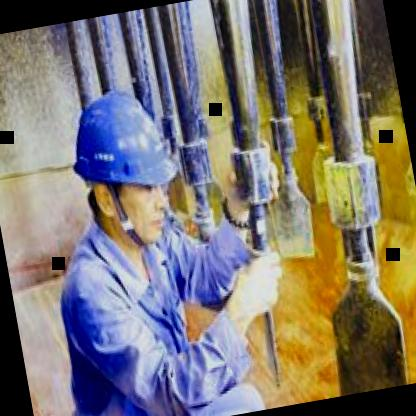helmet: (53, 61, 192, 260)
